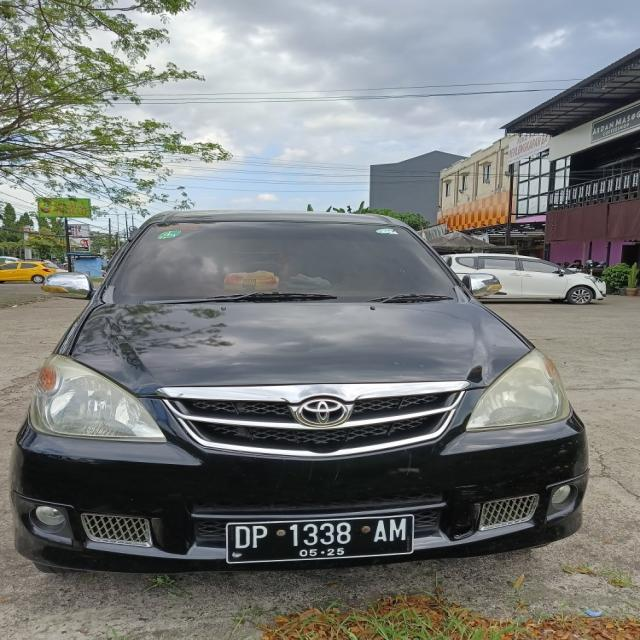plates: (224, 511, 416, 564)
